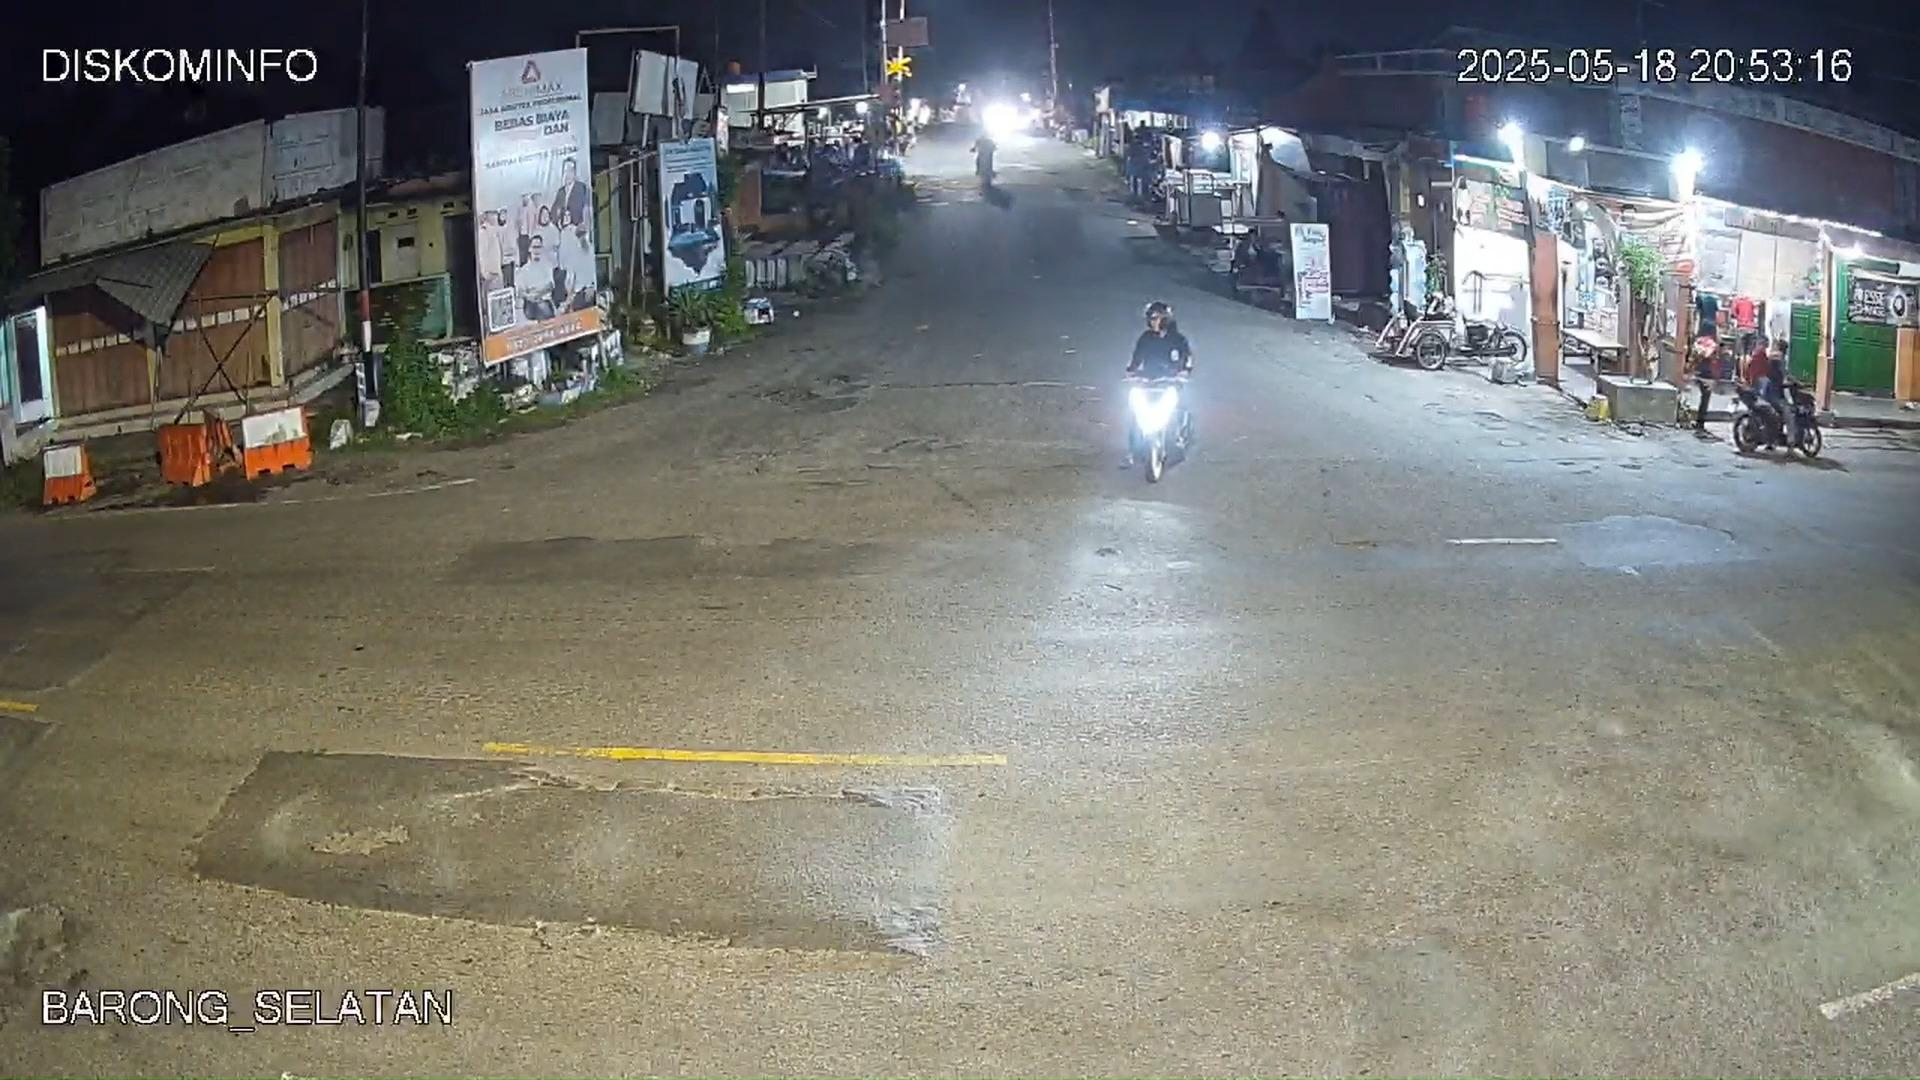Motor: (1120, 299, 1195, 471)
